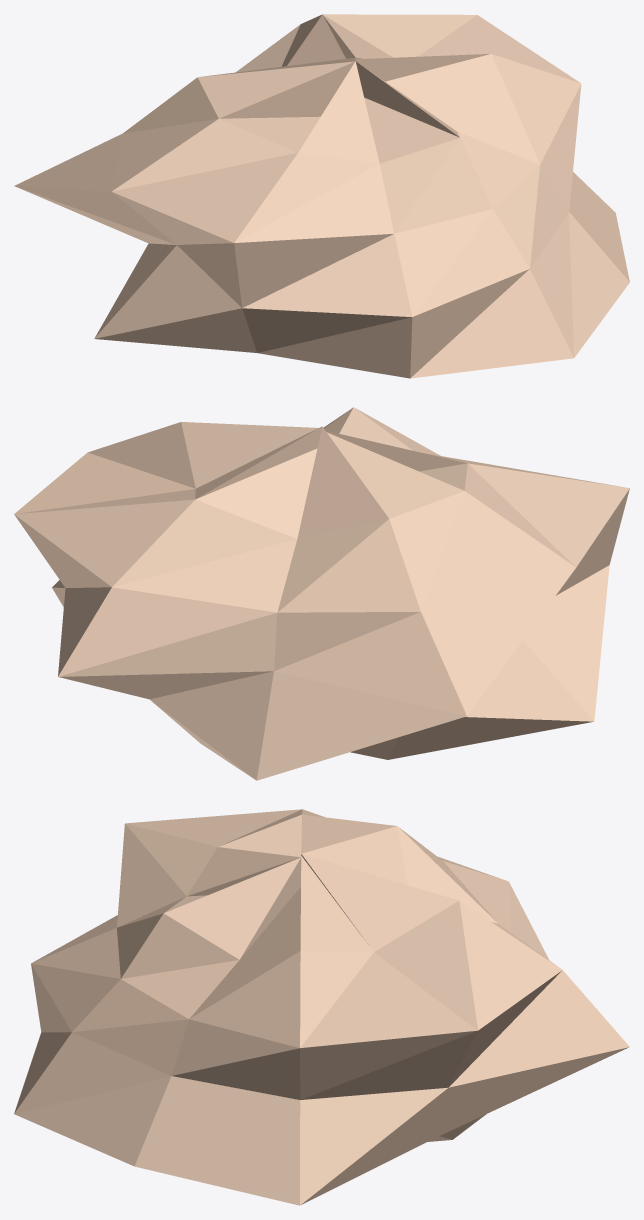
File: rock_067.obj
3 renders of one model, top to bottom at view 1: azimuth 30°, elevation 25°; view 2: azimuth 150°, elevation 25°; view 3: azimuth 270°, elevation 25°, orthographic. The views are drawn at different scales.
Bounding box in the file's own units: 0.6686 × 0.3595 × 0.6712.
